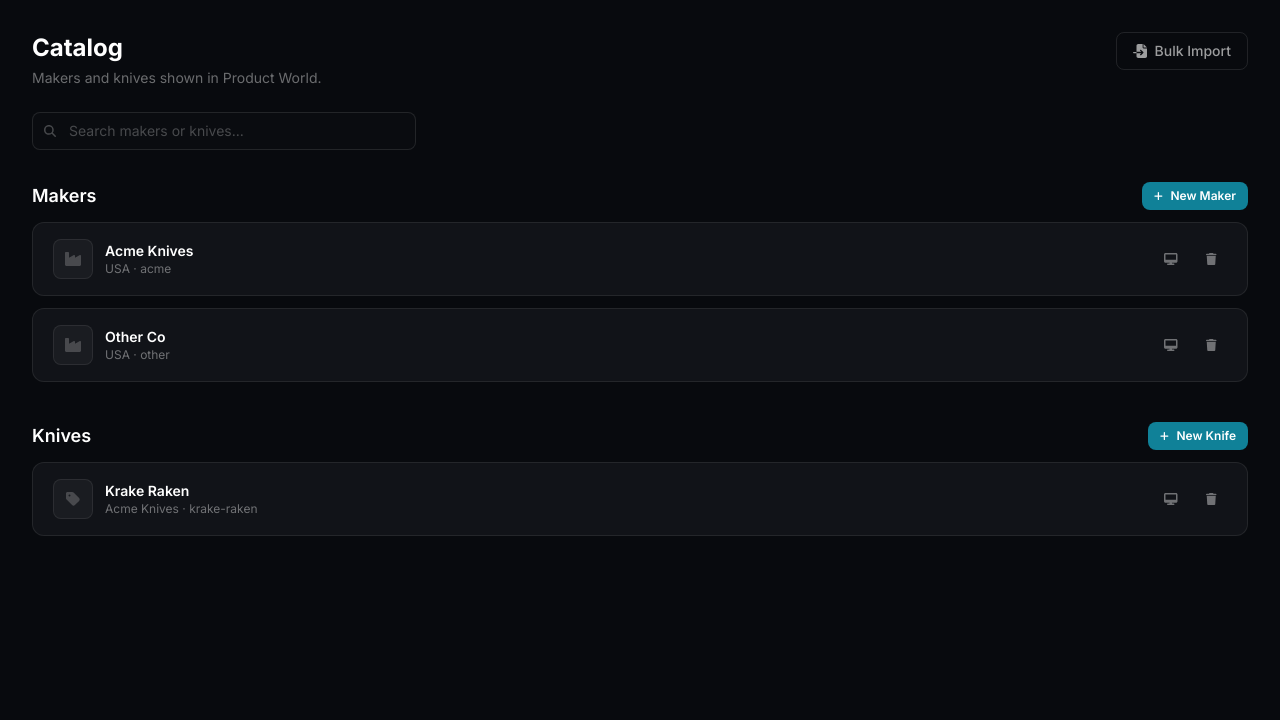
Scenario: AdminCatalogPage — search › filters makers and knives by the search query independently
The width and height of the screenshot is (1280, 720).
Expected: the text "Acme Knives" is shown, left=105, top=241, right=194, bottom=261
Type "krake" into the field with placeholder "Search makers or knives..." at (224, 131), box left=32, top=112, right=416, bottom=150
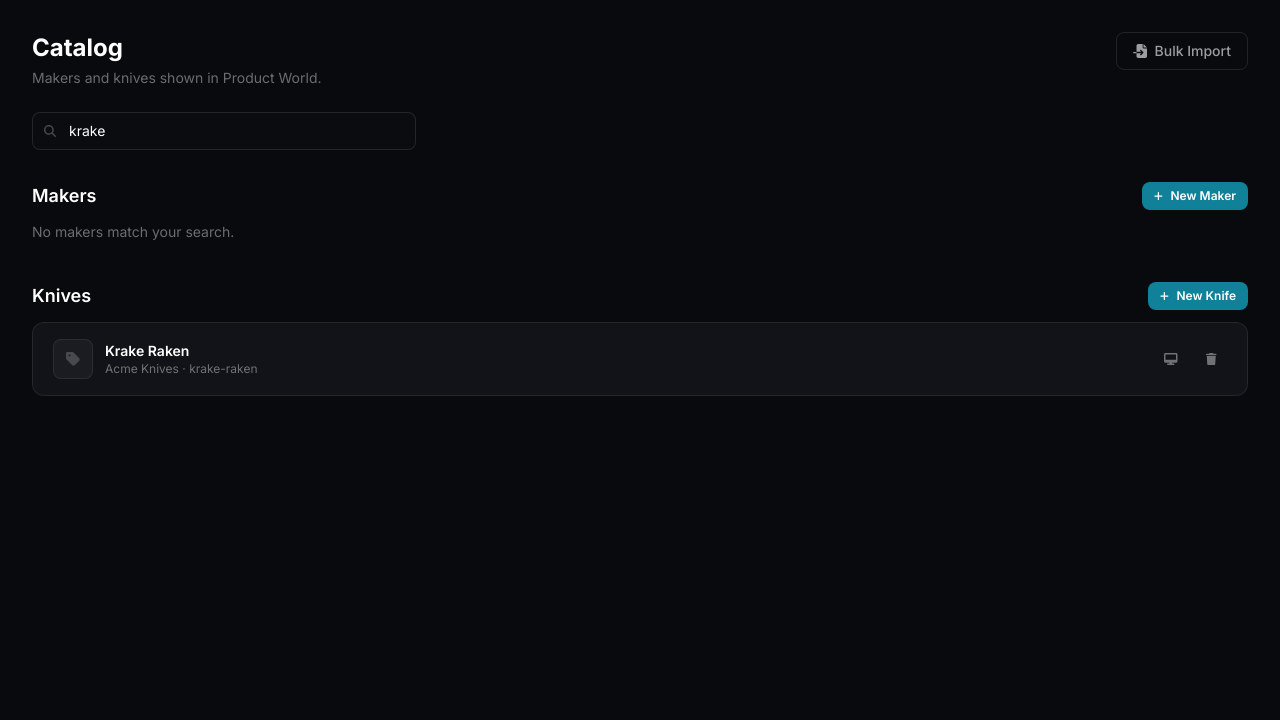
Expected: the text "Krake Raken" is shown, left=105, top=342, right=189, bottom=359
Expected: the text "No makers match your search." is shown, left=32, top=223, right=234, bottom=240
